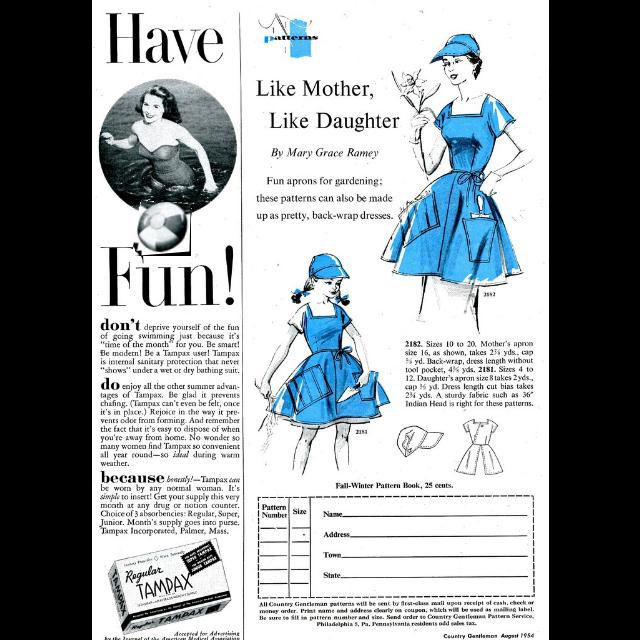Football: (135, 202, 191, 256)
